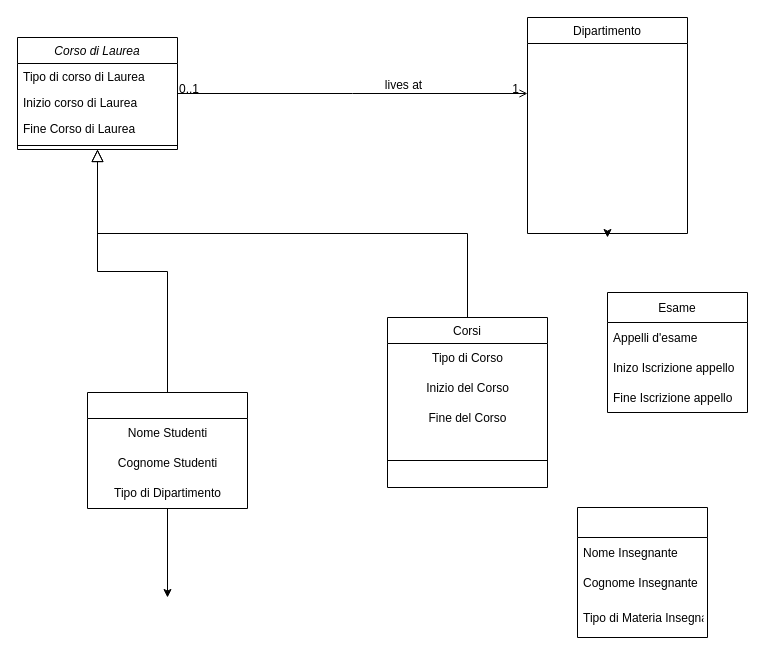
The diagram is 765 pixels wide and 655 high, and some of its shapes have lost their labels. The box of each missing label's shape, as (x1, y1, x2, y2) in pixels:
Insegnanti: (576, 506, 708, 638)
Studente: (86, 392, 248, 508)
